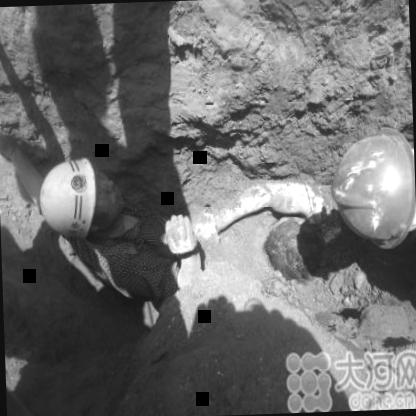helmet: (323, 125, 416, 260), (36, 161, 119, 244)
